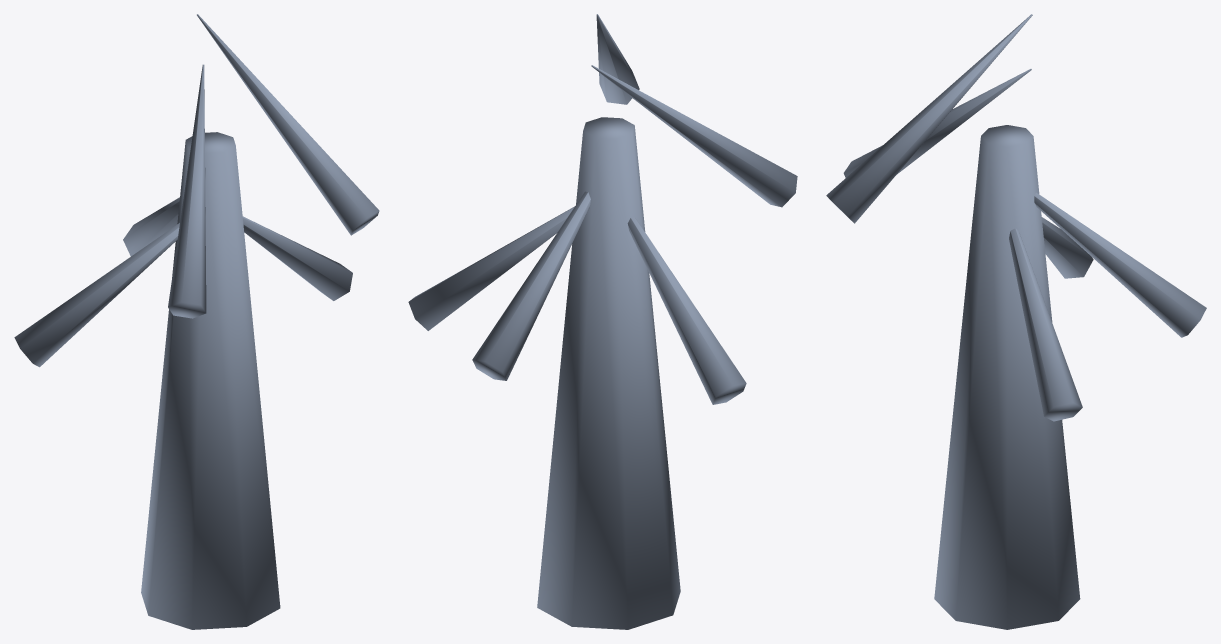
Rendered from dead_tree_frost.glb.
The picture shows the model from 3 angles, left to right: view 1: azimuth 30°, elevation 25°; view 2: azimuth 150°, elevation 25°; view 3: azimuth 270°, elevation 25°; orthographic projection. The views are drawn at different scales.
Parts seen in each view (by area): view 1: dead_tree_frost; view 2: dead_tree_frost; view 3: dead_tree_frost.
Part boxes in pixels (x1,y1,x2,y2): dead_tree_frost: (14, 14, 379, 629); dead_tree_frost: (408, 14, 797, 629); dead_tree_frost: (826, 14, 1206, 629).
Bounding box in the file's own units: 2.1 × 3.53 × 2.09.
